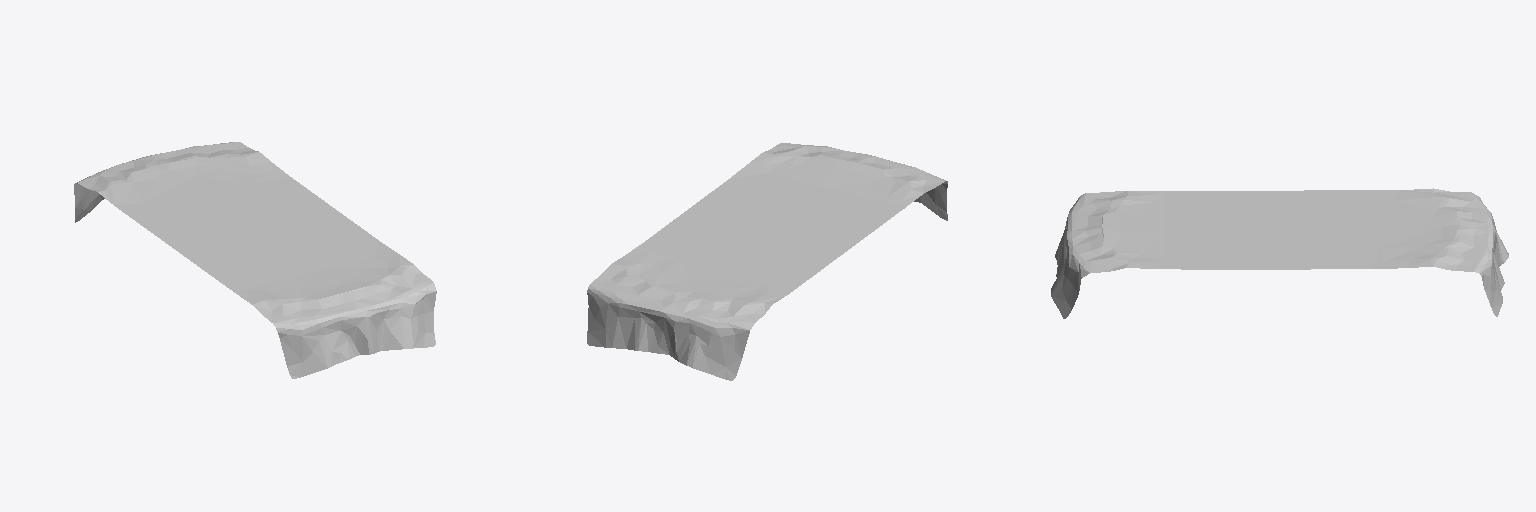
The model's file is Kitchen Table Cloth.obj.
3 renders of one model, left to right at view 1: azimuth 30°, elevation 25°; view 2: azimuth 150°, elevation 25°; view 3: azimuth 270°, elevation 25°, orthographic.
Parts seen in each view (by area): view 1: kitchen table cloth low; view 2: kitchen table cloth low; view 3: kitchen table cloth low.
Boxes of the visible parts, x1,y1,x2,y2 form: kitchen table cloth low: [74, 142, 436, 378]; kitchen table cloth low: [587, 143, 947, 380]; kitchen table cloth low: [1051, 188, 1508, 318].
Size of the model in its own units: 144 by 47.62 by 346.